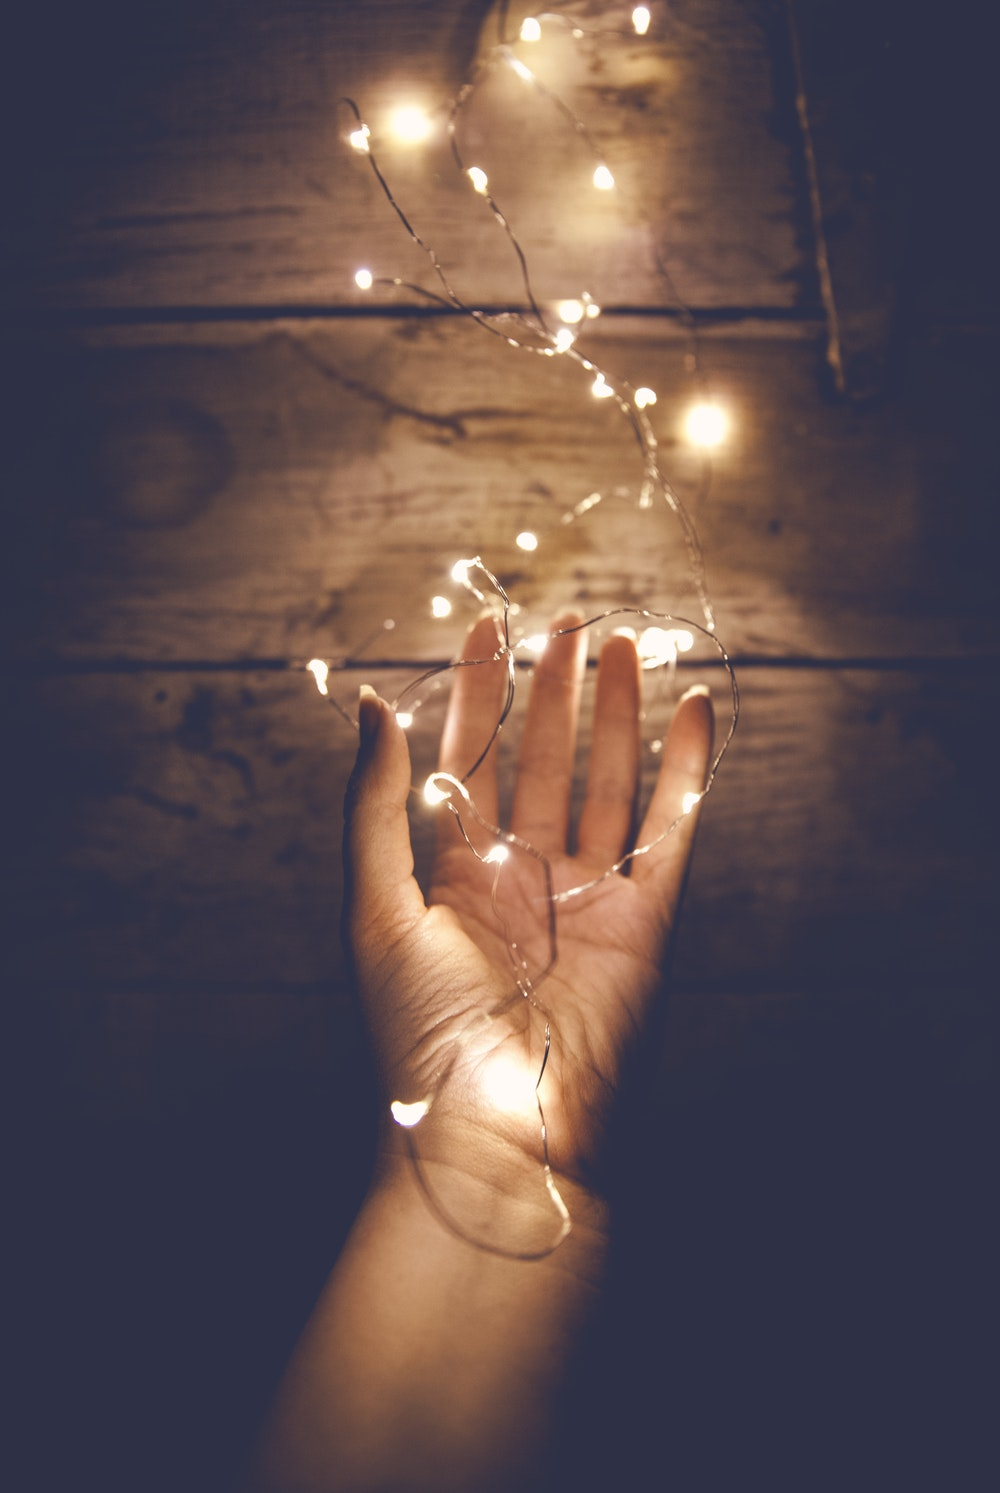palm: (431, 859, 660, 1117)
